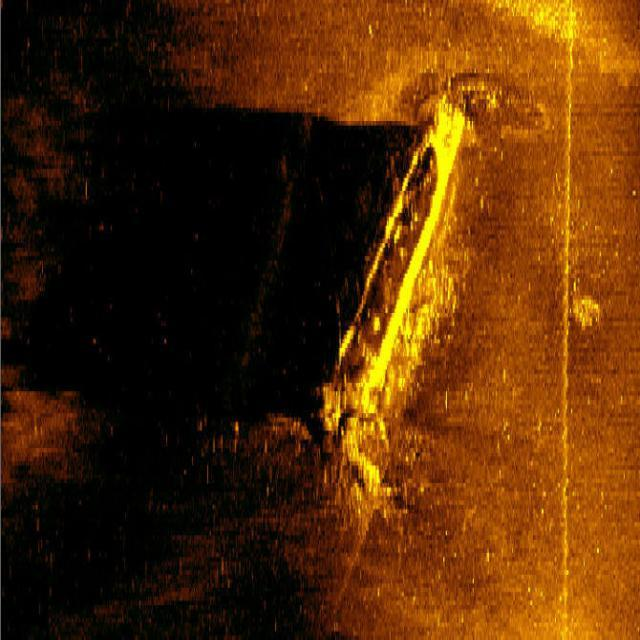shipwreck: (332, 94, 465, 414)
